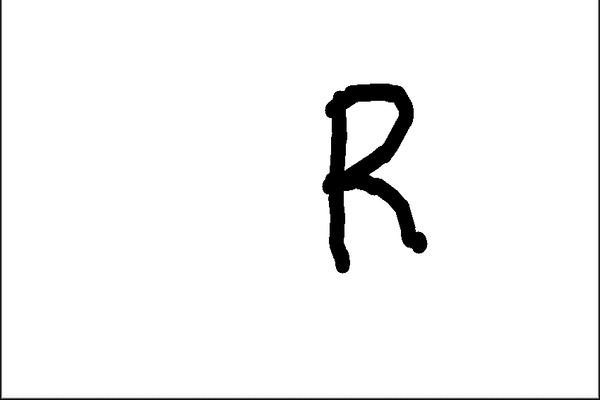R: (307, 77, 444, 270)
